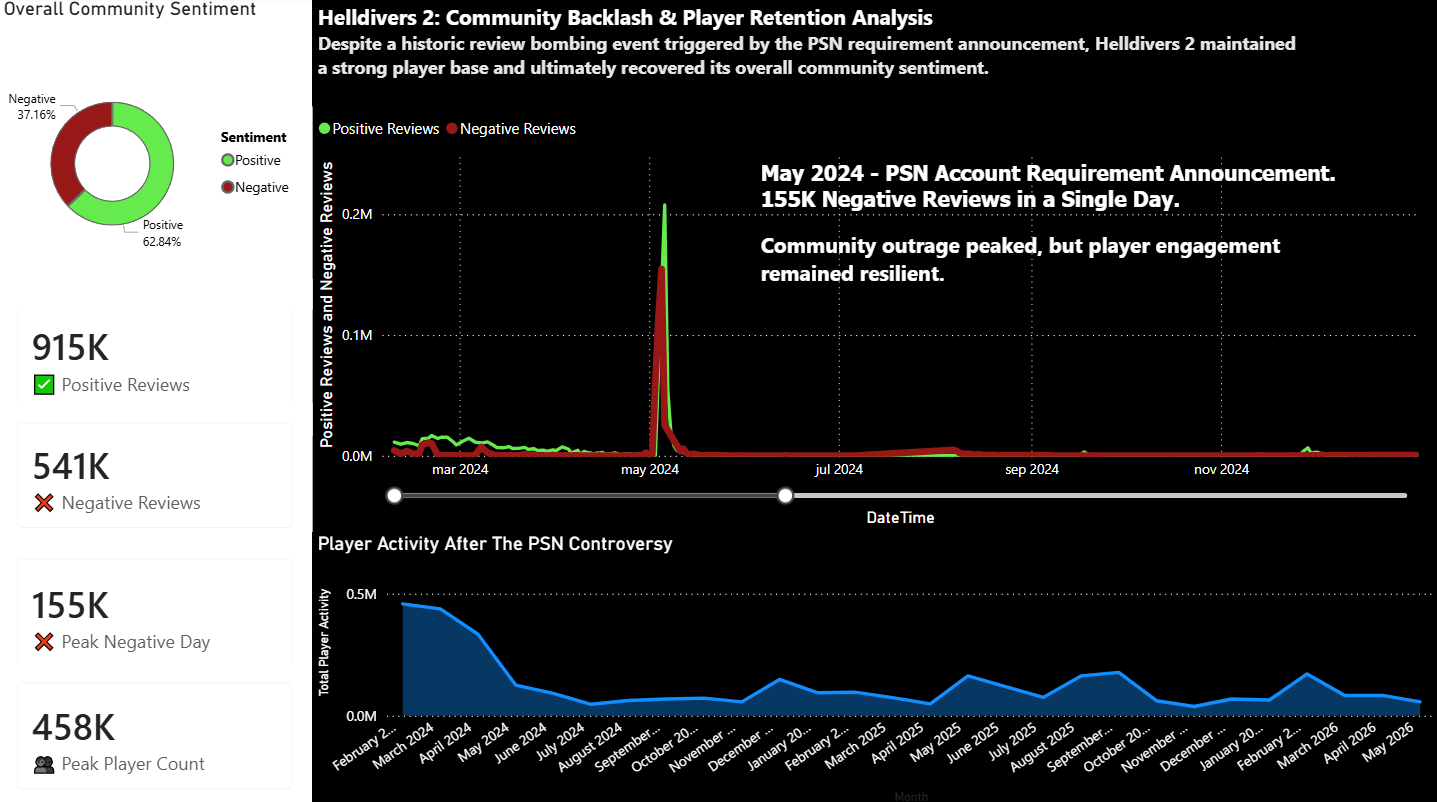

The page's visual inventory and layout, read from the dashboard file:
{"tool":"powerbi","page":{"name":"Page 1","canvas":[1280,720],"ordinal":0},"visuals":[{"type":"lineChart","title":"Community Sentiment Timeline","fields":{"Y":["Sum(DATASET REVIEWS.Positive reviews)","Calendar.Negative Reviews Absolute"],"Category":["DATASET REVIEWS.DateTime"]},"box":[278.6,77.6,1001,396.9],"z":0},{"type":"cardVisual","fields":{"Data":["Sum(DATASET REVIEWS.Positive reviews)"]},"box":[0,250,278.6,138.8],"z":1000},{"type":"cardVisual","fields":{"Data":["Sum(DATASET REVIEWS.Negative reviews)"]},"box":[0,360.2,278.6,128.6],"z":2000},{"type":"cardVisual","fields":{"Data":["Max(DATASET REVIEWS.Negative reviews)"]},"box":[0,480.6,278.6,133.7],"z":3000},{"type":"cardVisual","fields":{"Data":["Max(DATASET PLAYERS.Peak Players)"]},"box":[0,590.8,278.6,129.6],"z":4000},{"type":"textbox","box":[749.3,149.9,531.1,200.4],"z":5000},{"type":"donutChart","title":"Overall Community Sentiment","fields":{"Category":["Sentiment Summary.Sentiment"],"Y":["Sum(Sentiment Summary.Reviews)"]},"box":[0,0,278.6,276.5],"z":6000},{"type":"lineChart","title":"Player Activity After The PSN Controversy","fields":{"Category":["DATASET PLAYERS.Month"],"Y":["Sum(DATASET PLAYERS.Peak Players)"]},"box":[278.6,474.5,1001,245.9],"z":7000},{"type":"textbox","box":[278.6,0,1001,96.9],"z":8000}]}

Visuals, with their boxes in screenshot pixels (x1, y1, x2, y2), scaled from the page's 1280x720 canvas onto the 1437x802 screenshot:
"Community Sentiment Timeline" lineChart: detection(313, 86, 1436, 529)
cardVisual - Sum(DATASET REVIEWS.Positive reviews): detection(0, 278, 313, 433)
cardVisual - Sum(DATASET REVIEWS.Negative reviews): detection(0, 401, 313, 544)
cardVisual - Max(DATASET REVIEWS.Negative reviews): detection(0, 535, 313, 684)
cardVisual - Max(DATASET PLAYERS.Peak Players): detection(0, 658, 313, 801)
textbox: detection(841, 167, 1436, 390)
"Overall Community Sentiment" donutChart: detection(0, 0, 313, 308)
"Player Activity After The PSN Controversy" lineChart: detection(313, 529, 1436, 801)
textbox: detection(313, 0, 1436, 108)
